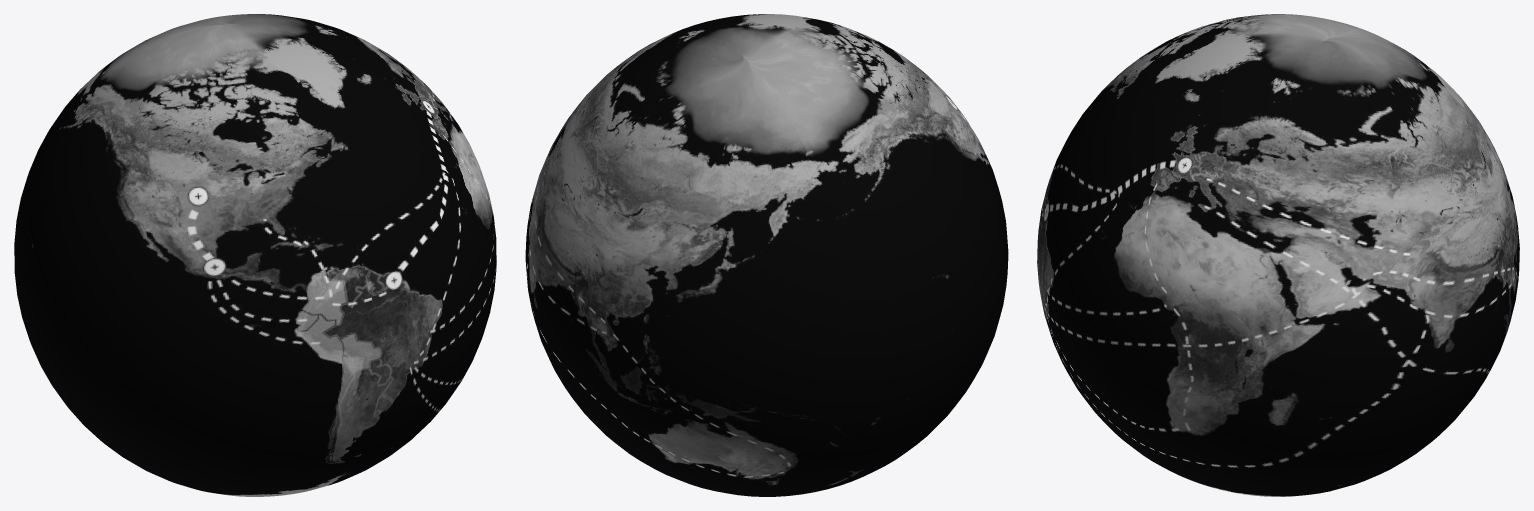
The model's file is earth.glb.
The picture shows the model from 3 angles, left to right: view 1: azimuth 30°, elevation 25°; view 2: azimuth 150°, elevation 25°; view 3: azimuth 270°, elevation 25°; orthographic projection.
Parts seen in each view (by area): view 1: EARTH; view 2: EARTH; view 3: EARTH.
Part boxes in pixels (x1=…): EARTH: x1=14, y1=14, x2=496, y2=496; EARTH: x1=525, y1=14, x2=1008, y2=496; EARTH: x1=1037, y1=14, x2=1519, y2=496.
Bounding box in the file's own units: 2 × 2 × 2.
1 material, 1 textured.
